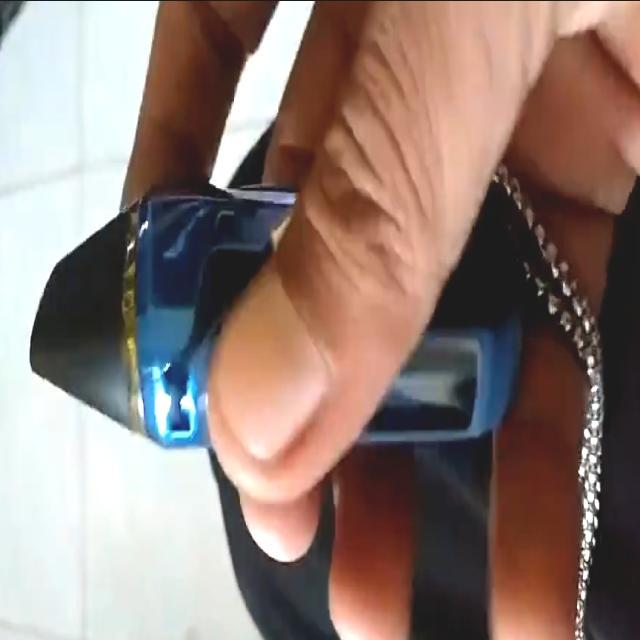Hazard: (28, 172, 526, 446)
